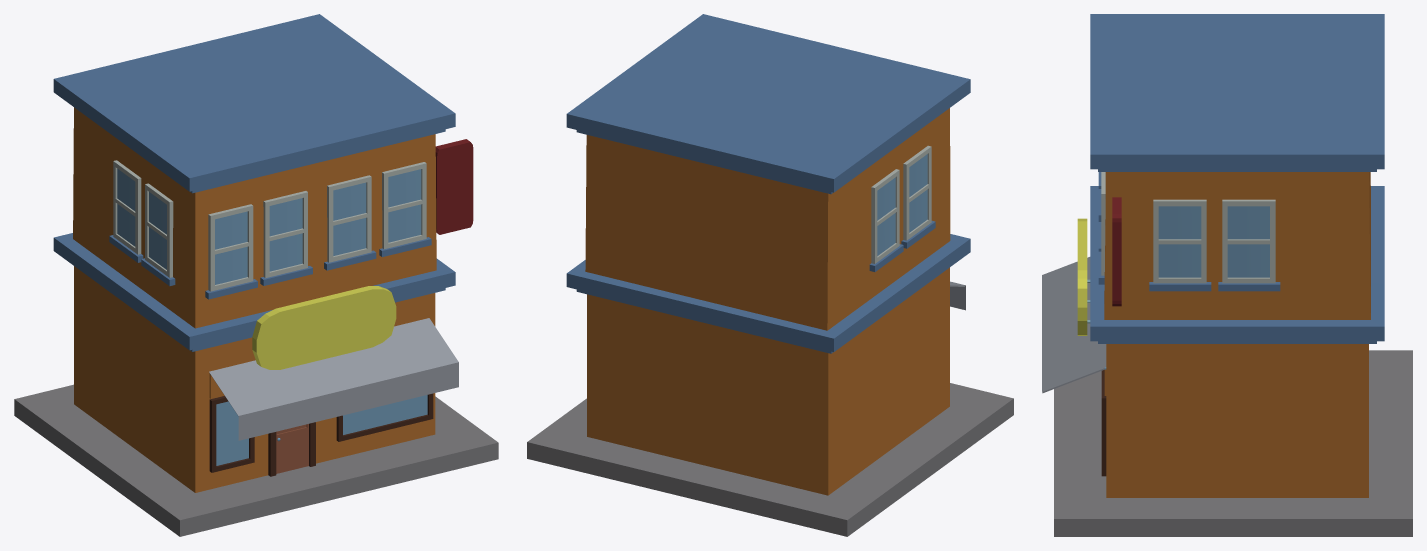
File: Target_Hotel.fbx
The picture shows the model from 3 angles, left to right: view 1: azimuth 30°, elevation 25°; view 2: azimuth 150°, elevation 25°; view 3: azimuth 270°, elevation 25°; orthographic projection. The views are drawn at different scales.
Visible parts, largest first — view 1: Hotel; view 2: Hotel; view 3: Hotel.
Part boxes in pixels (x1,y1,x2,y2): Hotel: (14, 14, 498, 536); Hotel: (527, 14, 1013, 536); Hotel: (1042, 14, 1412, 536).
Bounding box in the file's own units: 197 × 200 × 182.
